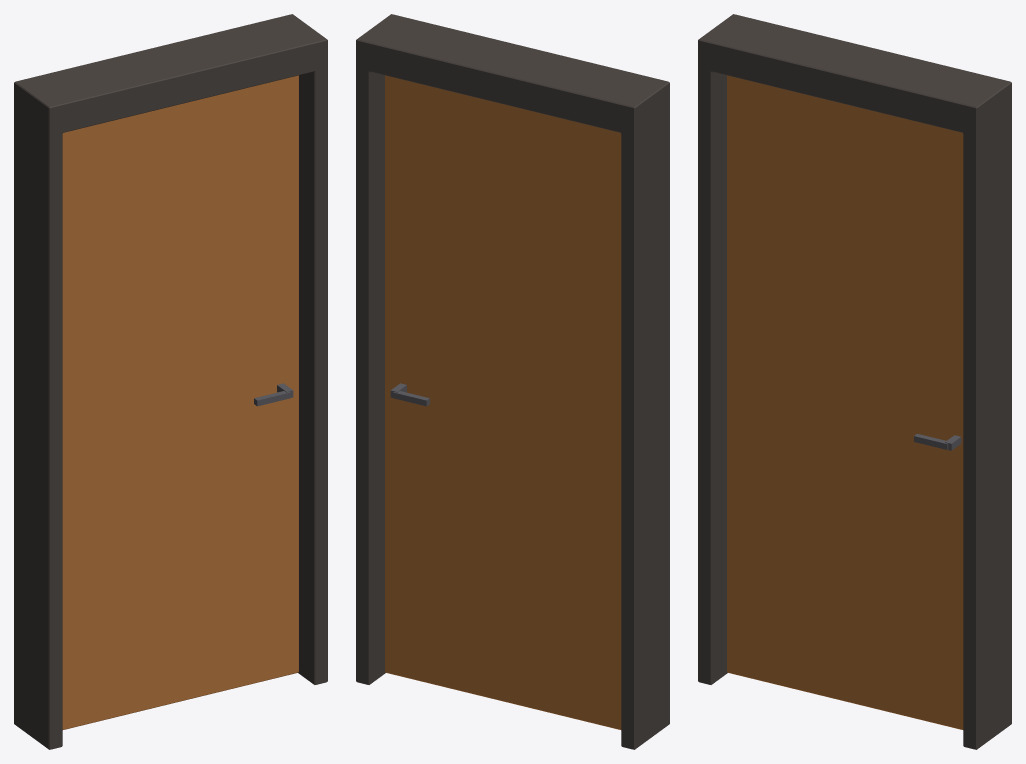
Rendered from arch_door_single_t20.glb.
The picture shows the model from 3 angles, left to right: view 1: azimuth 30°, elevation 25°; view 2: azimuth 150°, elevation 25°; view 3: azimuth 330°, elevation 25°; orthographic projection.
Visible parts, largest first — view 1: LeafMesh, Frame; view 2: LeafMesh, Frame; view 3: LeafMesh, Frame.
Part boxes in pixels (x1,y1,x2,y2): LeafMesh: (62,75,298,729); Frame: (14,14,327,749); LeafMesh: (385,75,621,729); Frame: (356,14,669,749); LeafMesh: (727,75,963,729); Frame: (698,14,1011,749).
Size of what is drawn, in the model's own units: 1 by 2.2 by 0.22.
